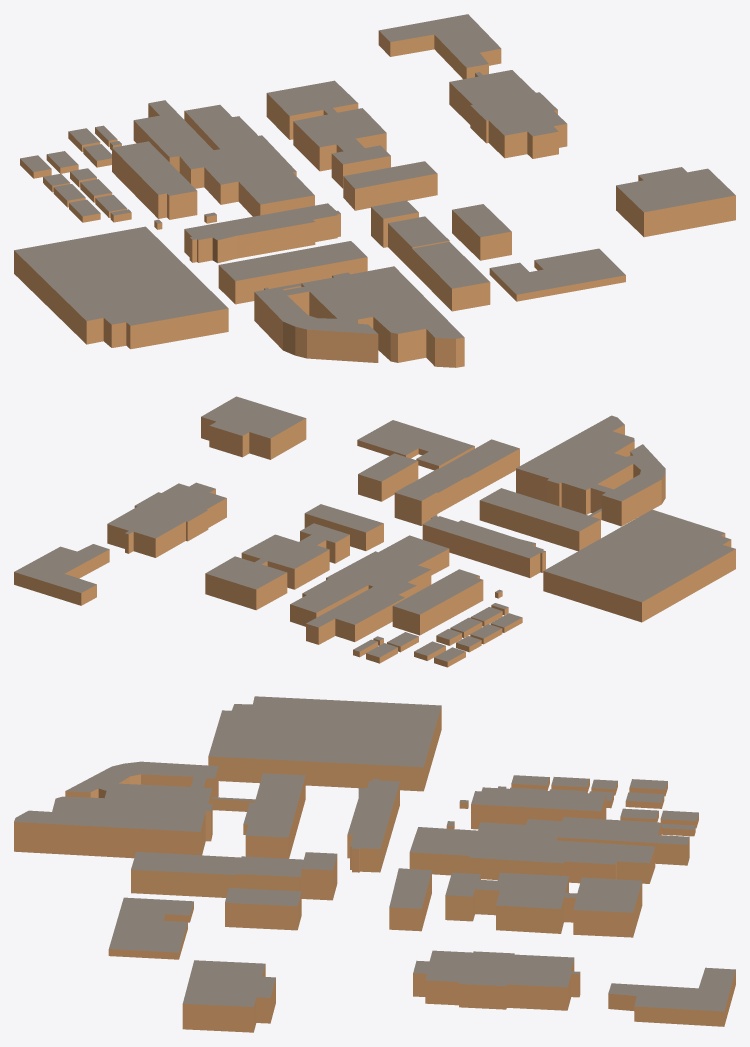
The model's file is map.glb.
The picture shows the model from 3 angles, top to bottom: view 1: azimuth 30°, elevation 25°; view 2: azimuth 150°, elevation 25°; view 3: azimuth 270°, elevation 25°; orthographic projection. The views are drawn at different scales.
Visible parts, largest first — view 1: map.osm_buildings; view 2: map.osm_buildings; view 3: map.osm_buildings.
Boxes of the visible parts, x1,y1,x2,y2 form: map.osm_buildings: [14, 14, 735, 367]; map.osm_buildings: [14, 396, 735, 667]; map.osm_buildings: [14, 696, 735, 1032].
Size of the model in its own units: 448 by 21.1 by 438.
